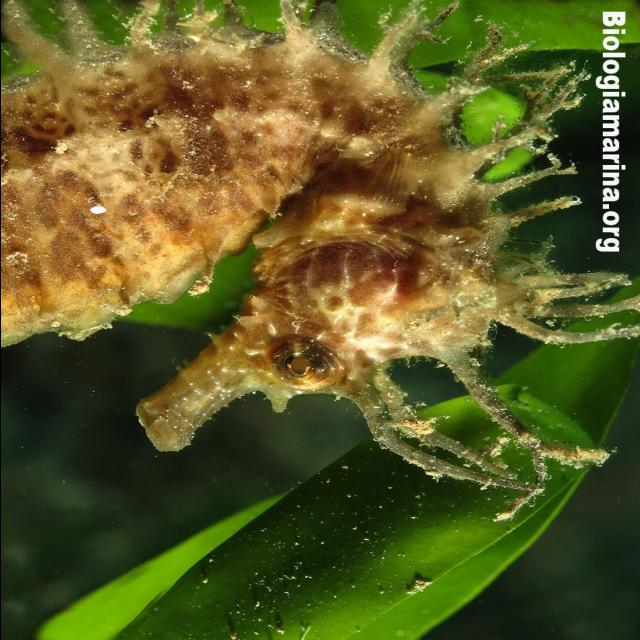Guttu: (132, 210, 522, 462)
